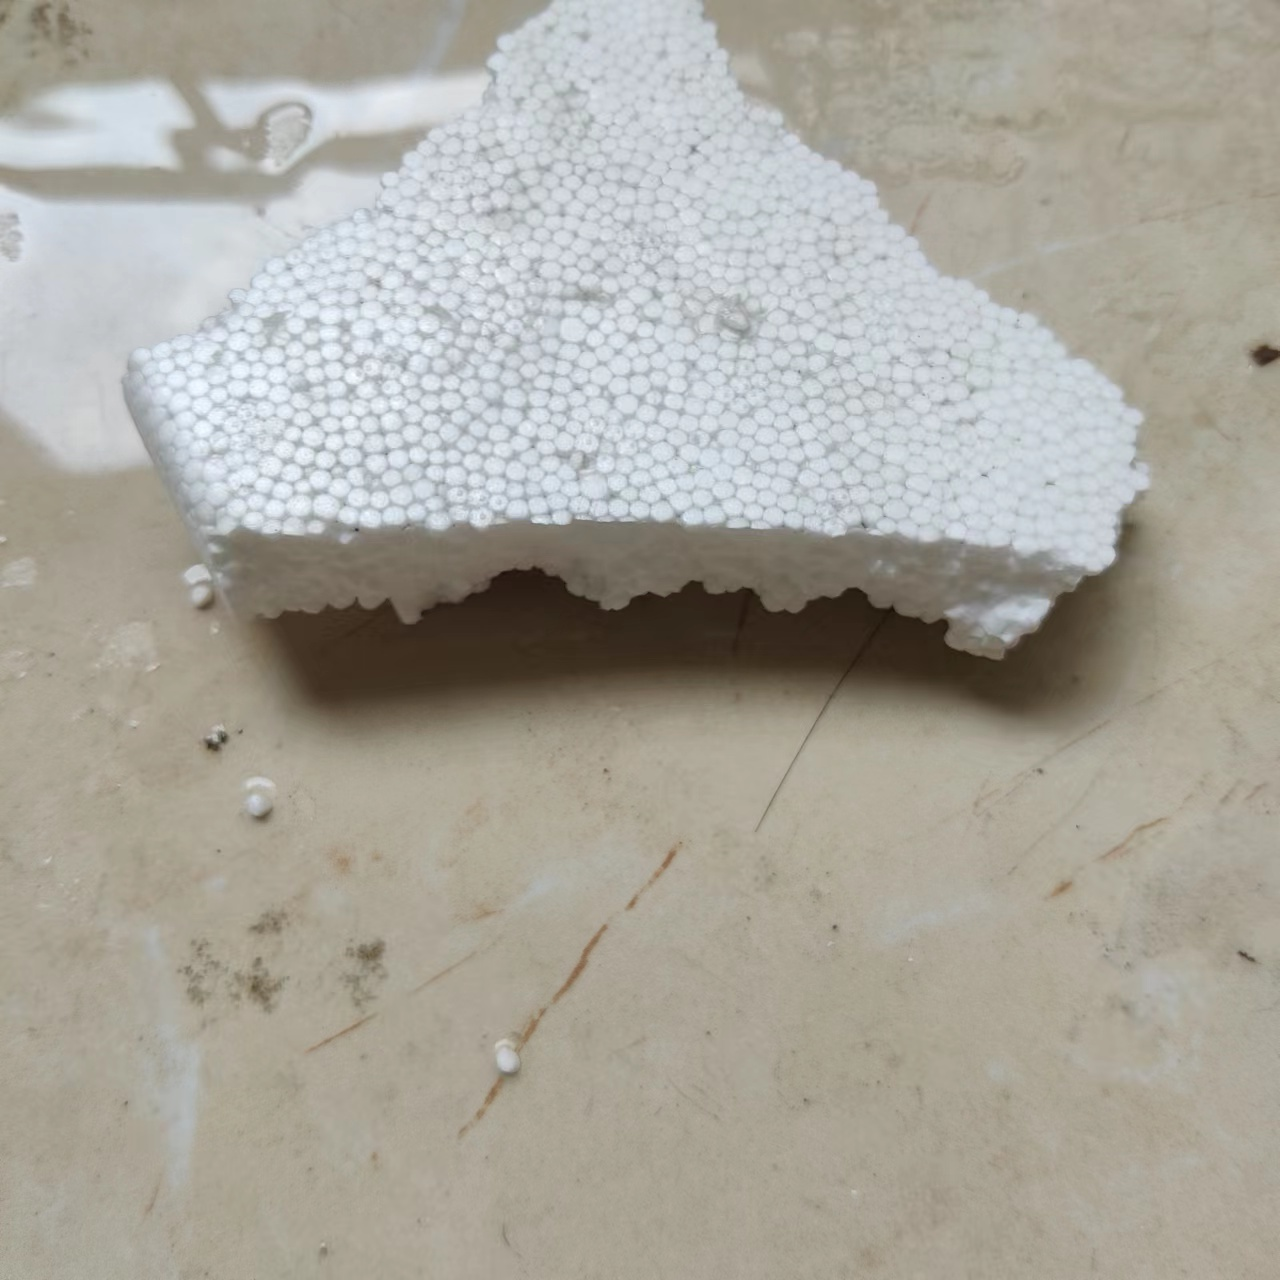5/可回收垃圾/泡沫: (122, 1, 1153, 663)
